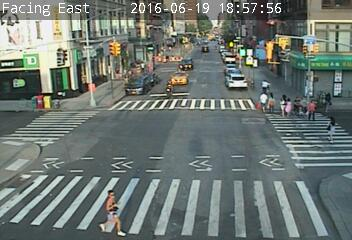neg: (175, 122, 204, 160), (78, 78, 103, 110), (52, 39, 74, 68), (156, 76, 177, 105), (233, 57, 253, 84), (115, 49, 134, 74), (171, 200, 190, 224), (20, 48, 38, 72), (220, 71, 237, 94), (305, 126, 321, 146), (304, 72, 319, 93), (45, 92, 60, 112), (293, 73, 307, 93), (289, 143, 303, 162), (282, 68, 295, 85), (335, 94, 346, 109), (332, 71, 342, 85), (293, 125, 300, 134)
pos: (89, 183, 128, 235), (320, 113, 344, 145), (261, 91, 283, 120), (274, 93, 293, 120), (318, 89, 337, 114), (303, 98, 321, 122), (254, 90, 272, 114), (289, 93, 306, 117), (281, 96, 298, 119), (295, 95, 311, 116), (258, 77, 272, 95)
